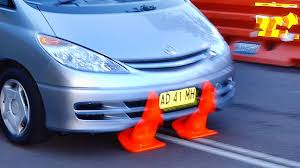car: (1, 1, 236, 146)
cone: (172, 80, 223, 140), (118, 94, 166, 154)
